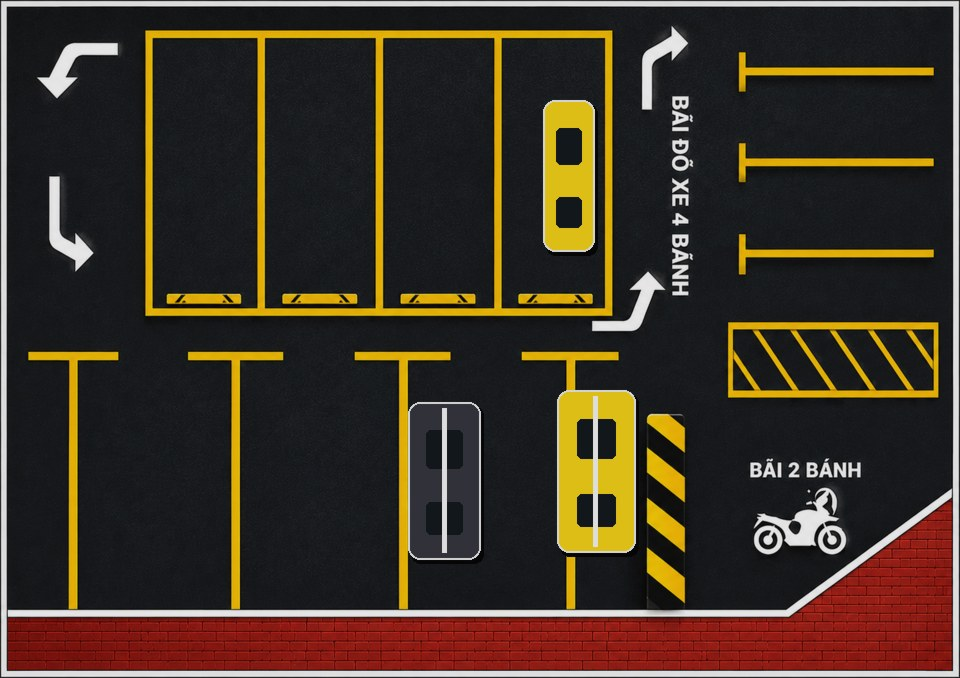empty: (35, 351, 199, 598), (201, 351, 357, 598), (148, 35, 267, 309), (267, 35, 386, 309), (386, 35, 505, 309)
occupied: (360, 351, 518, 598), (524, 351, 672, 598), (505, 35, 624, 309)
